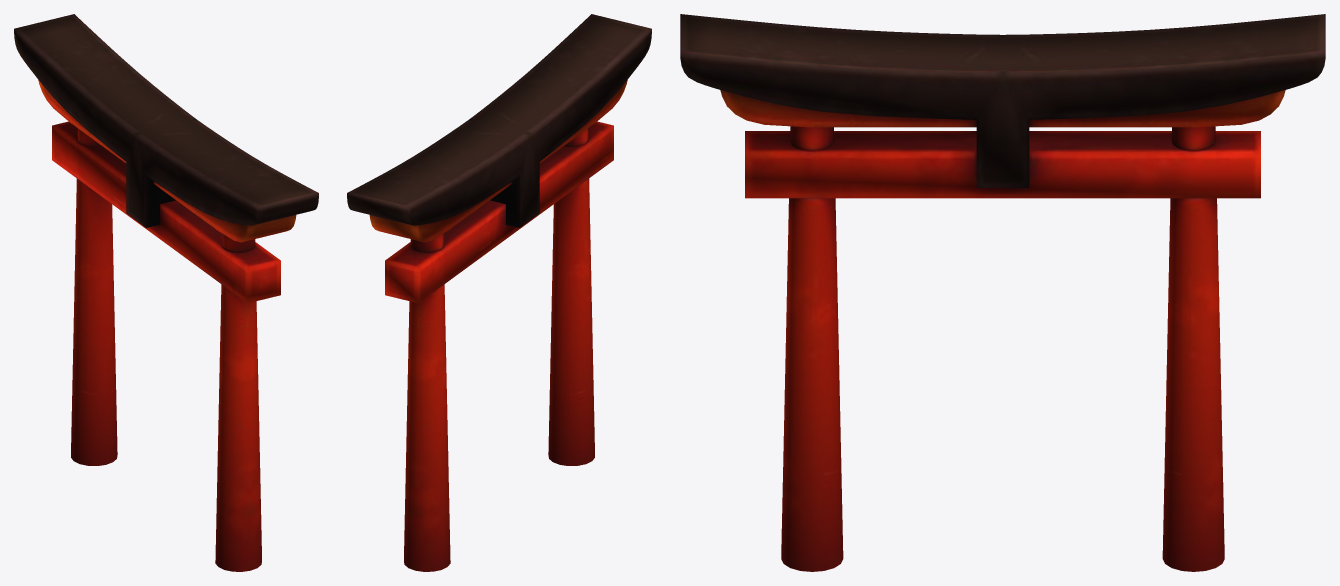
File: gate.fbx
3 renders of one model, left to right at view 1: azimuth 30°, elevation 25°; view 2: azimuth 150°, elevation 25°; view 3: azimuth 270°, elevation 25°, orthographic. The views are drawn at different scales.
Visible parts, largest first — view 1: gfate; view 2: gfate; view 3: gfate.
Boxes of the visible parts, x1,y1,x2,y2 form: gfate: (14, 14, 318, 571); gfate: (347, 14, 651, 571); gfate: (680, 14, 1325, 571).
Size of the model in its own units: 25.52 by 161 by 179.
